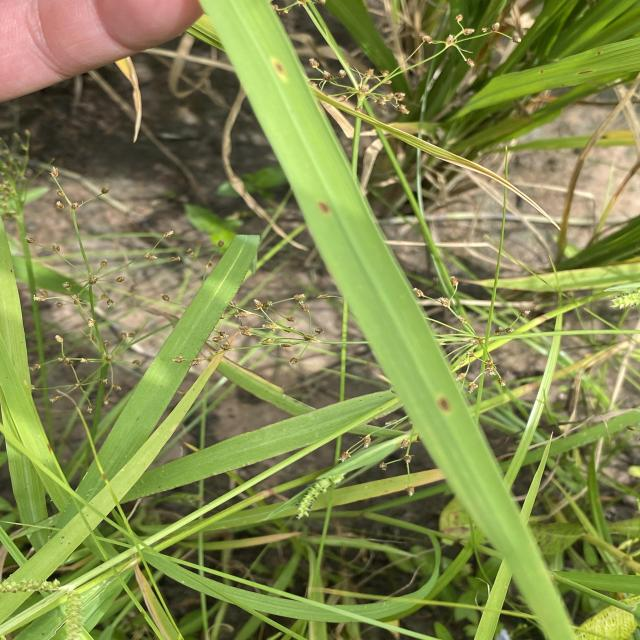Dom nau: (434, 394, 454, 415), (314, 199, 334, 218), (273, 60, 284, 74)
